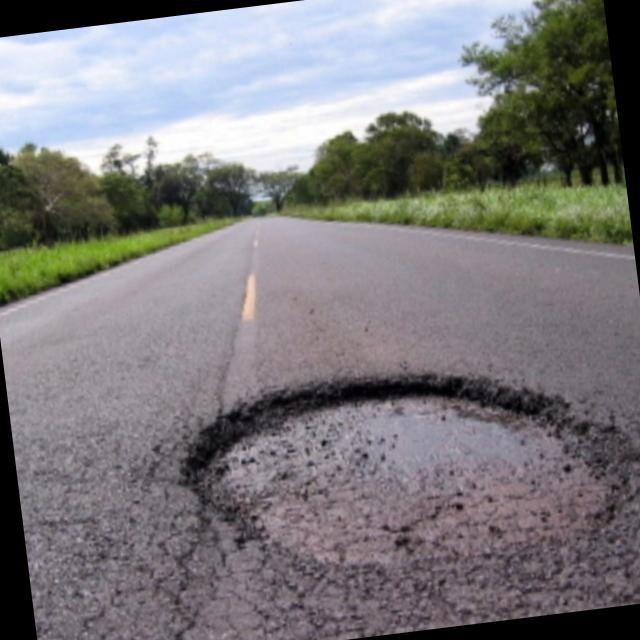Pothole: (175, 345, 640, 600)
